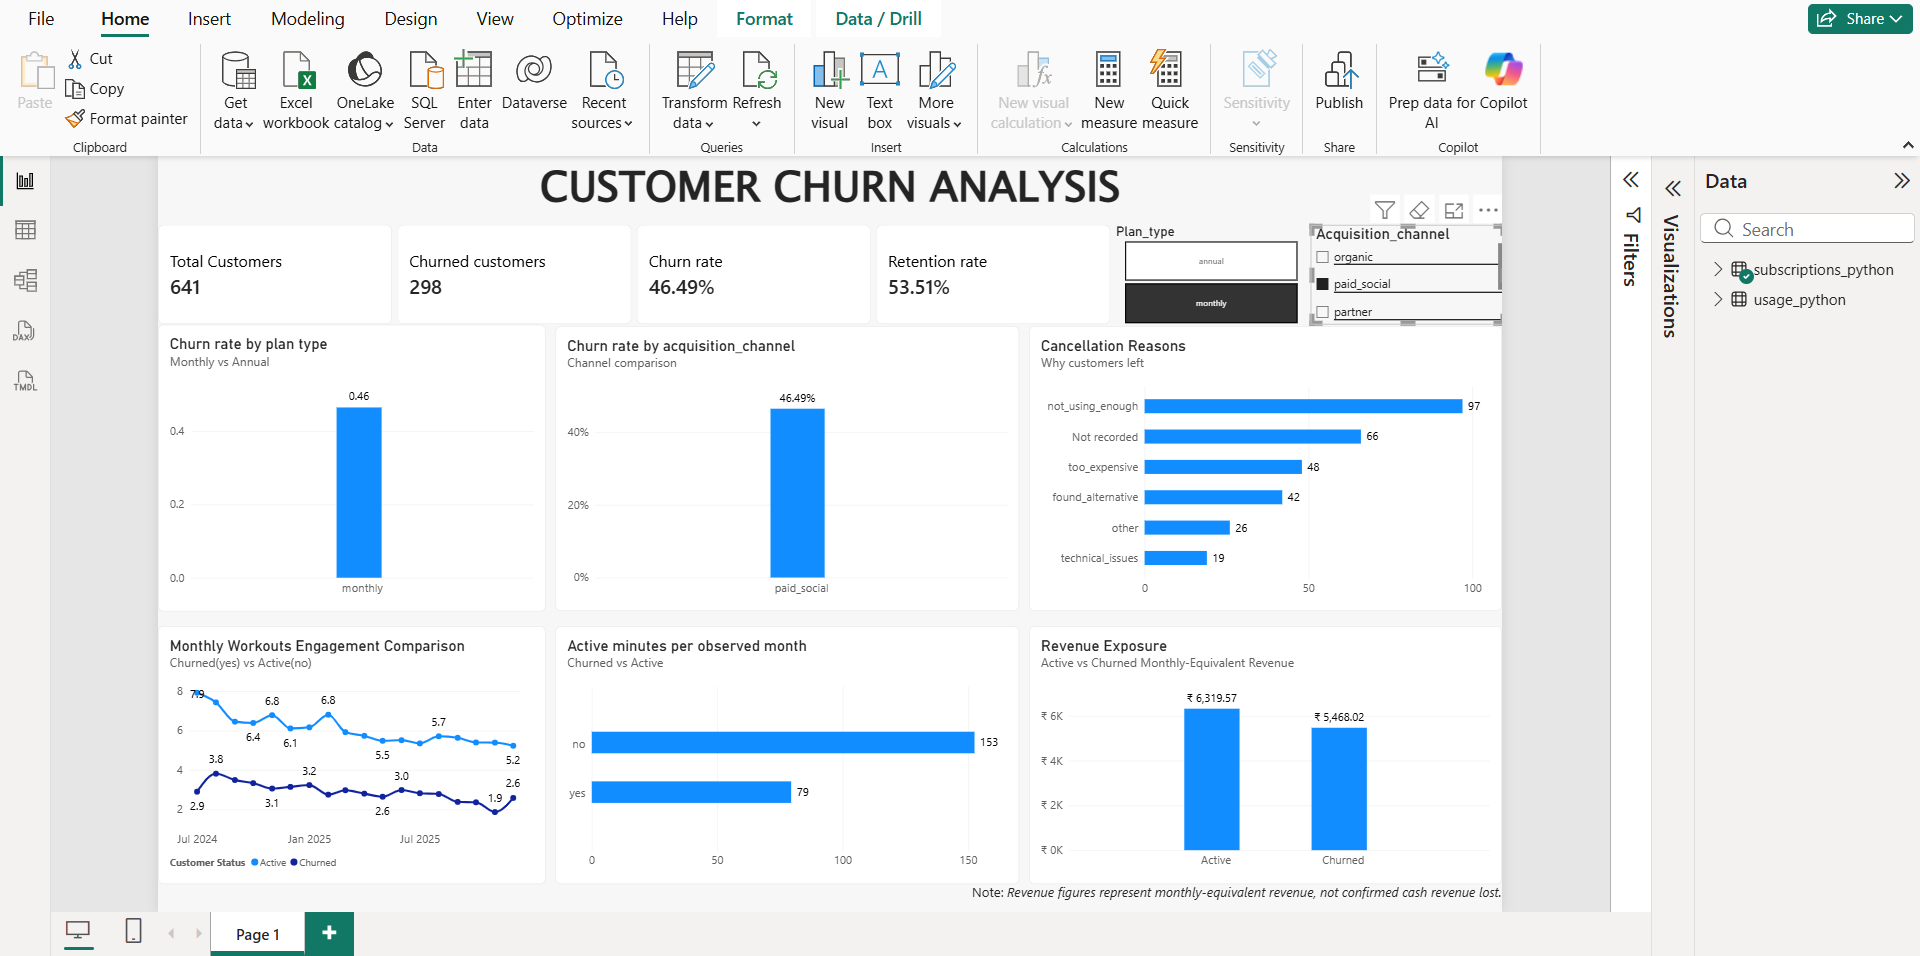

What the dashboard file says about the page in this screenshot:
{"tool":"powerbi","page":{"name":"Page 1","canvas":[1920,1080],"ordinal":0},"visuals":[{"type":"cardVisual","fields":{"Data":["subscriptions_python.Total Customers","subscriptions_python.Churned customers","subscriptions_python.Churn rate","subscriptions_python.Retention rate"]},"box":[0,98.8,1360.6,142],"z":0},{"type":"clusteredColumnChart","title":"Churn rate by acquisition_channel","fields":{"Category":["subscriptions_python.acquisition_channel"],"Y":["subscriptions_python.Churn rate"]},"box":[568.1,242.9,662.8,407.5],"z":3000},{"type":"clusteredBarChart","title":"Cancellation Reasons","fields":{"Category":["subscriptions_python.cancel_reason_clean"],"Y":["Count(subscriptions_python.customer_id)"]},"box":[1245.3,242.9,675.1,407.5],"z":7000},{"type":"clusteredColumnChart","title":"Churn rate by plan type","fields":{"Category":["subscriptions_python.plan_type"],"Y":["subscriptions_python.Churn rate"]},"box":[0,240.8,553.7,409.6],"z":12000},{"type":"lineChart","title":"Monthly Workouts Engagement Comparison","fields":{"Category":["usage_python.month"],"Series":["subscriptions_python.Customer Status"],"Y":["subscriptions_python.Average Monthly Workouts per Customer"]},"box":[0,671,553.7,368.4],"z":12001},{"type":"clusteredBarChart","title":"Active minutes per observed month","fields":{"Category":["subscriptions_python.churned"],"Y":["subscriptions_python.Average active minutes per observed month"]},"box":[568.1,671,662.8,368.4],"z":12002},{"type":"clusteredColumnChart","title":"Revenue Exposure","fields":{"Category":["subscriptions_python.Customer Status"],"Y":["subscriptions_python.Total Monthly-Equivalent Revenue"]},"box":[1245.3,671,675.1,368.4],"z":12003},{"type":"textbox","box":[0,0,1920.4,98.8],"z":12004},{"type":"slicer","fields":{"Values":["subscriptions_python.acquisition_channel"]},"box":[1646.7,98.8,275.8,142],"z":12005},{"type":"slicer","fields":{"Values":["subscriptions_python.plan_type"]},"box":[1360.6,96.7,286.1,144.1],"z":12006},{"type":"textbox","box":[100.9,1039.5,1819.6,41.2],"z":12007}]}

Visuals, with their boxes on the page's 1920x1080 design canvas (x1, y1, x2, y2). These are canvas units, not pixel positions in the 1920x956 screenshot, which may show the page scaled, cropped or inside an application window:
cardVisual - subscriptions_python.Total Customers x subscriptions_python.Churned customers: Rect(0, 99, 1361, 241)
"Churn rate by acquisition_channel" clusteredColumnChart: Rect(568, 243, 1231, 650)
"Cancellation Reasons" clusteredBarChart: Rect(1245, 243, 1920, 650)
"Churn rate by plan type" clusteredColumnChart: Rect(0, 241, 554, 650)
"Monthly Workouts Engagement Comparison" lineChart: Rect(0, 671, 554, 1039)
"Active minutes per observed month" clusteredBarChart: Rect(568, 671, 1231, 1039)
"Revenue Exposure" clusteredColumnChart: Rect(1245, 671, 1920, 1039)
textbox: Rect(0, 0, 1920, 99)
slicer - subscriptions_python.acquisition_channel: Rect(1647, 99, 1922, 241)
slicer - subscriptions_python.plan_type: Rect(1361, 97, 1647, 241)
textbox: Rect(101, 1040, 1920, 1081)
